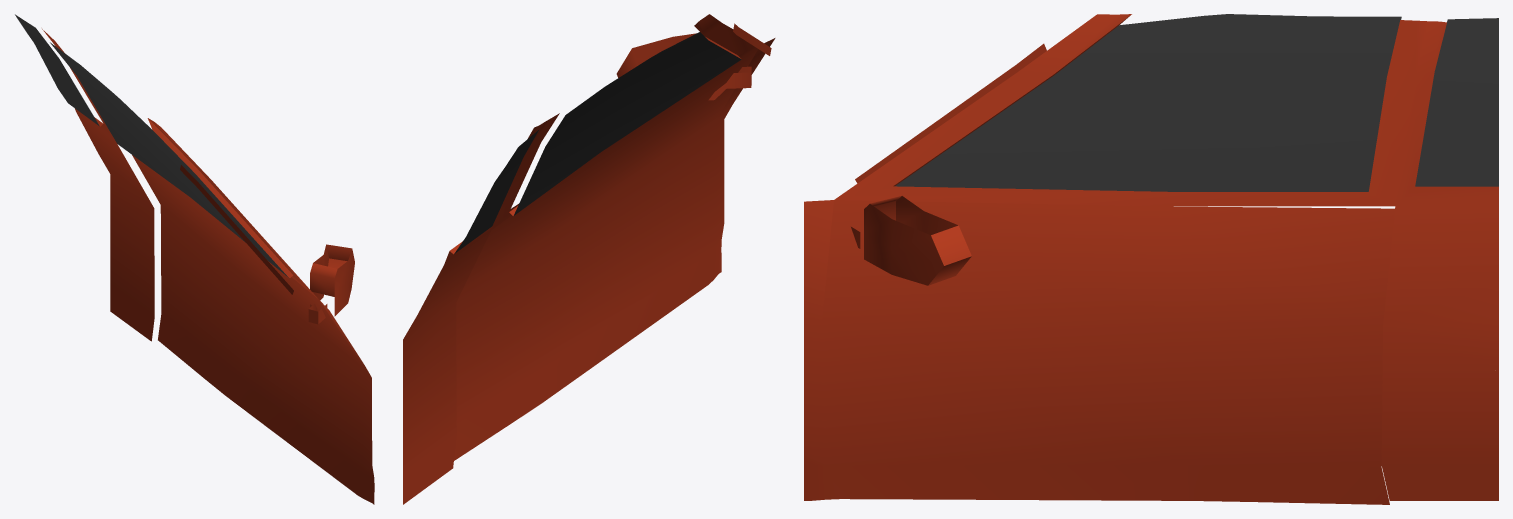
Rendered from sedan2-right.glb.
The picture shows the model from 3 angles, left to right: view 1: azimuth 30°, elevation 25°; view 2: azimuth 150°, elevation 25°; view 3: azimuth 270°, elevation 25°; orthographic projection. The views are drawn at different scales.
Bounding box in the file's own units: 0.2949 × 0.6645 × 0.9929.
Materials: 1 (1 with a texture image).
